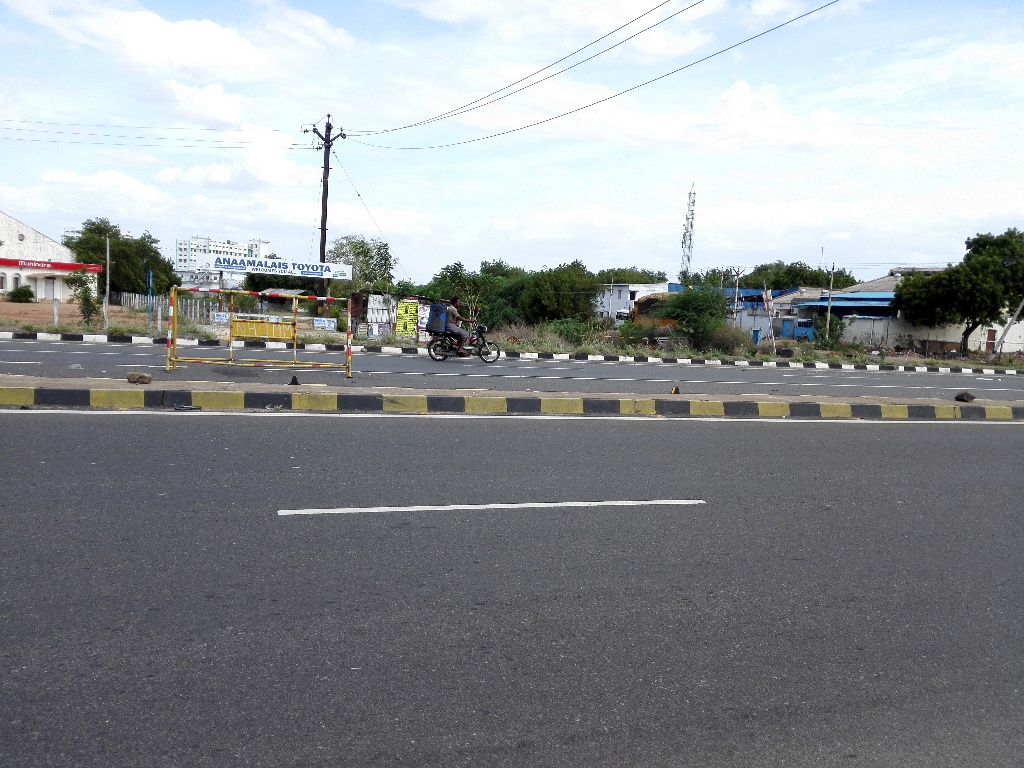biker: (416, 271, 510, 374)
nohelmet: (442, 290, 466, 316)
